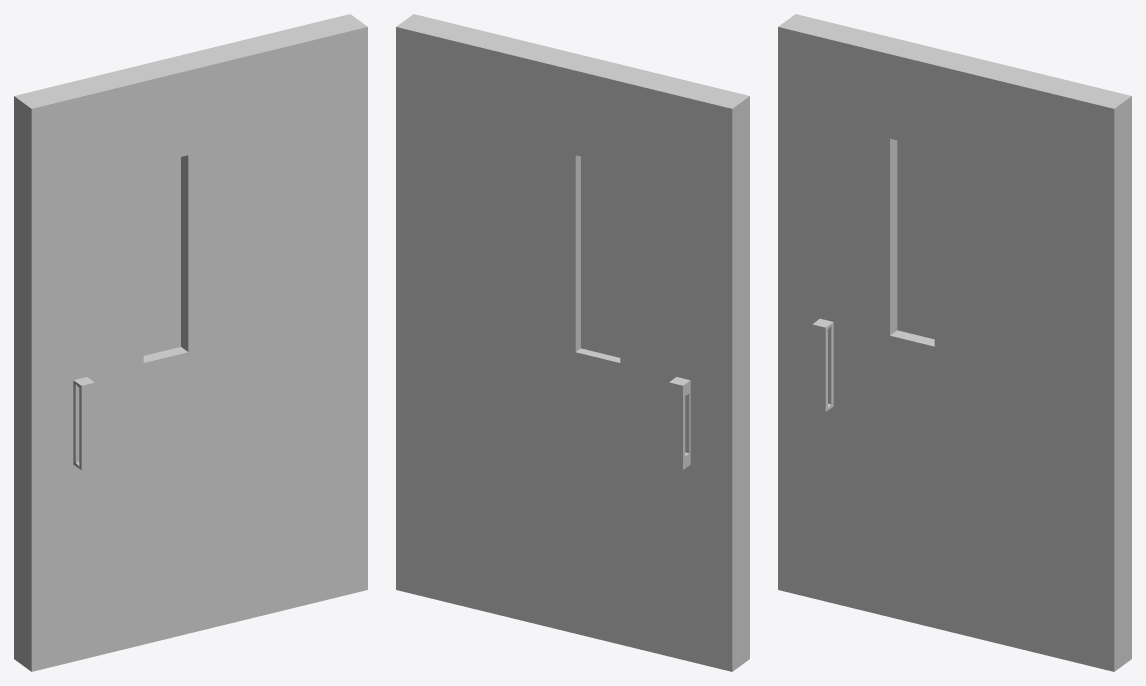
File: Door_Type_1.fbx
The picture shows the model from 3 angles, left to right: view 1: azimuth 30°, elevation 25°; view 2: azimuth 150°, elevation 25°; view 3: azimuth 330°, elevation 25°; orthographic projection.
Visible parts, largest first — view 1: Door_3; view 2: Door_3; view 3: Door_3.
Part boxes in pixels (x1,y1,x2,y2): Door_3: [14, 14, 367, 671]; Door_3: [396, 14, 749, 671]; Door_3: [778, 14, 1131, 671].
Bounding box in the file's own units: 1.25 × 2 × 0.2122.
Materials: 1 (1 with a texture image).
